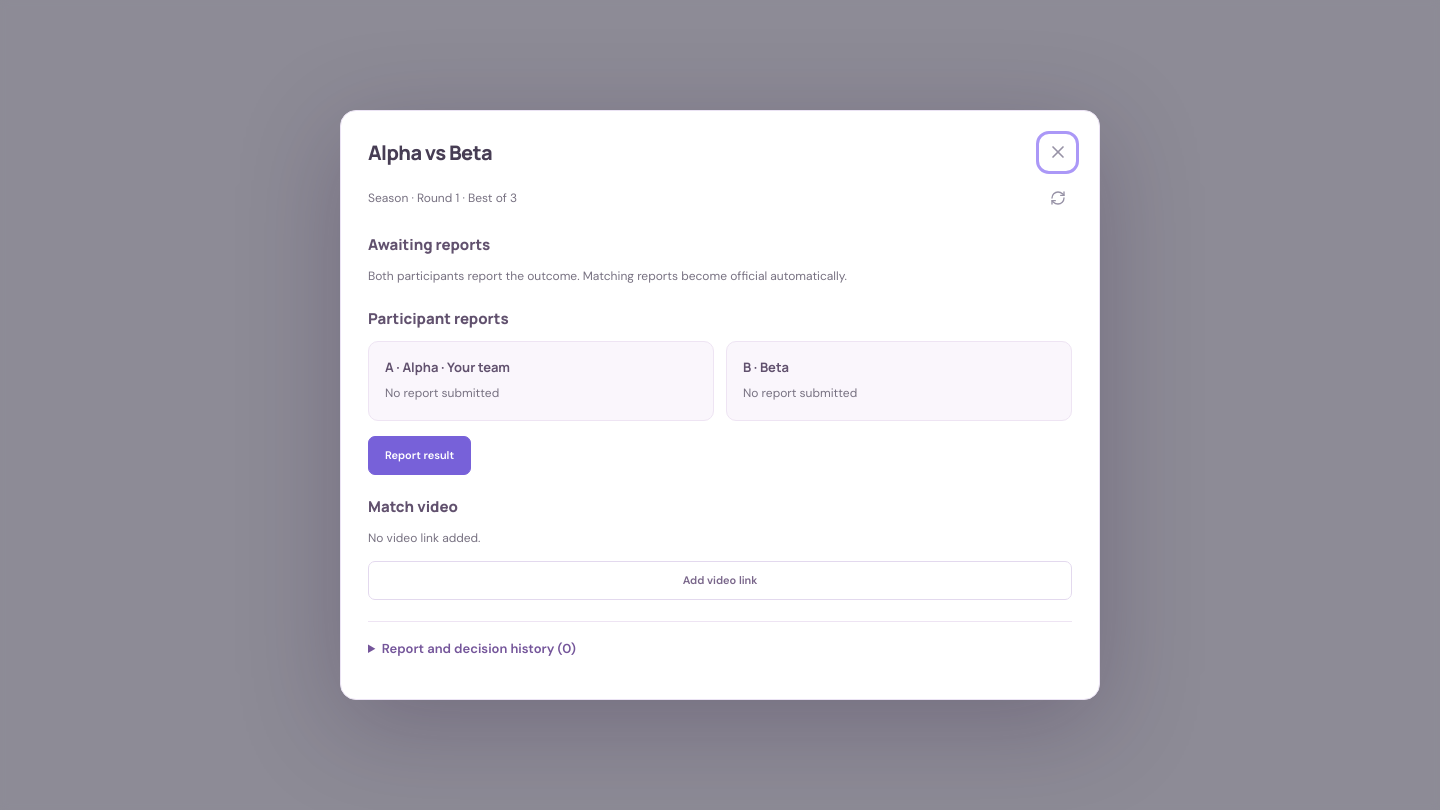
TournamentMatch › rejects incomplete and tied played scores before sending a report
Click the button "Report result".
click(420, 455)  # box [368,436,471,475]
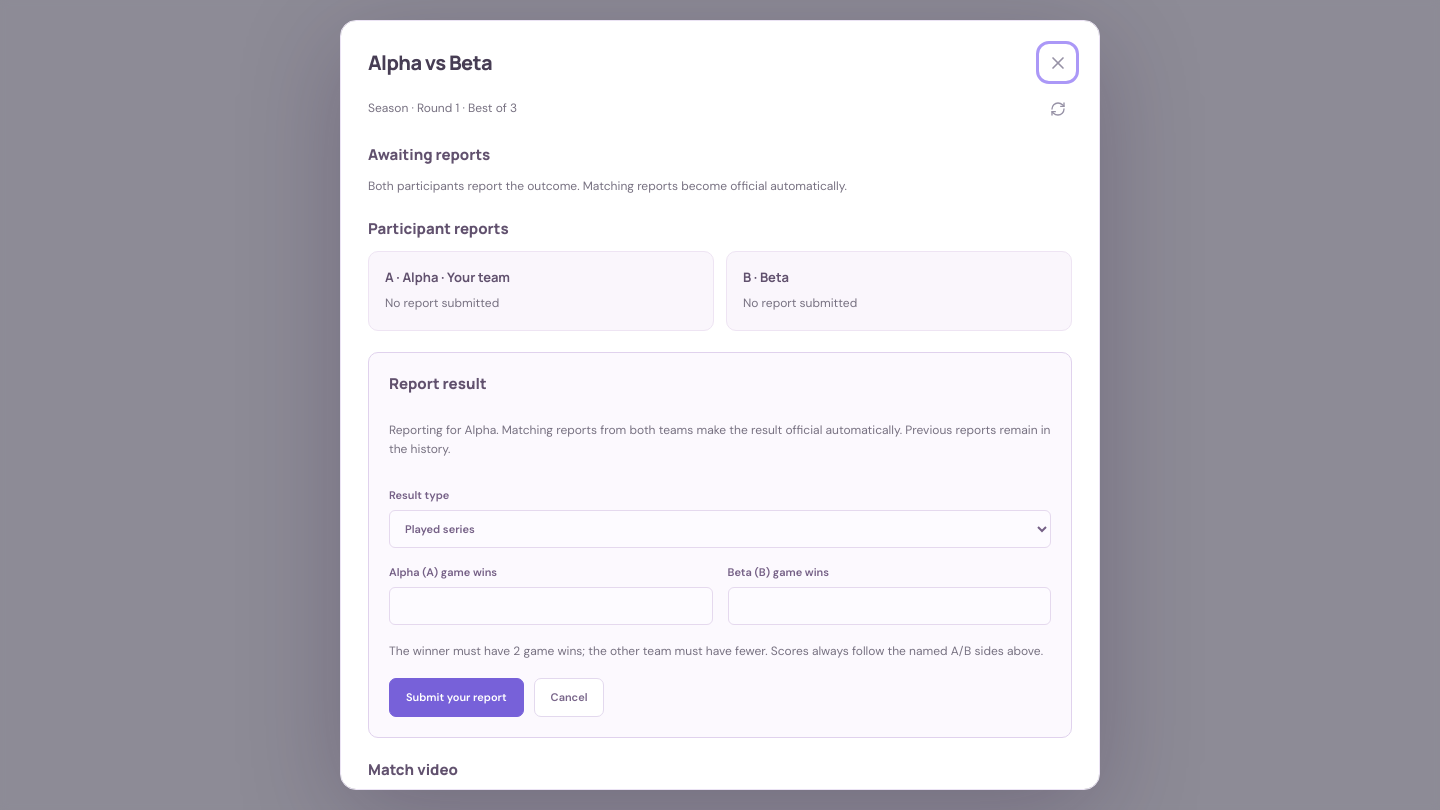
Type "1" into the number field labelled "Alpha (A) game wins".
click(551, 606); type("1")  # box [389,587,712,625]
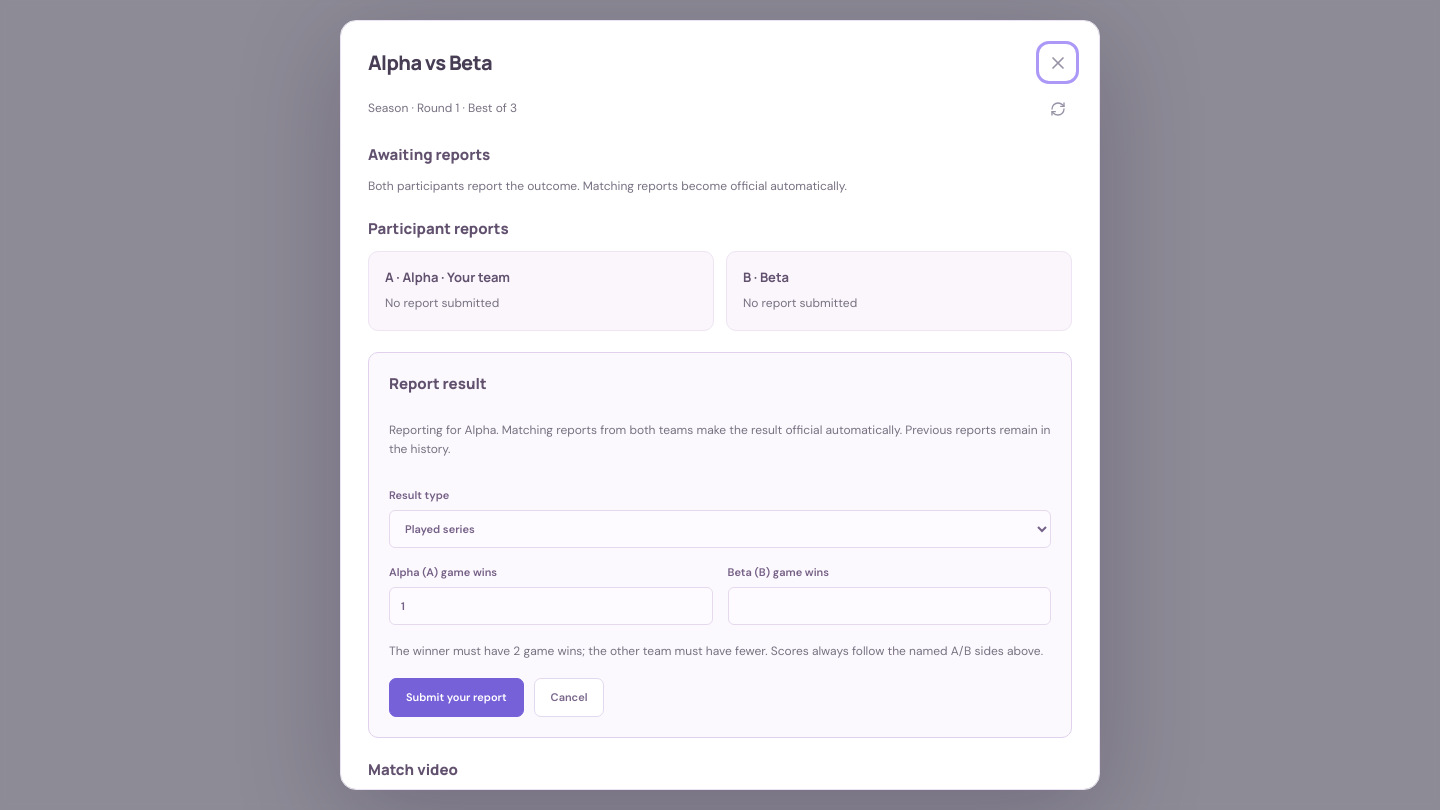
Type "1" into the number field labelled "Beta (B) game wins".
click(889, 606); type("1")  # box [728,587,1051,625]
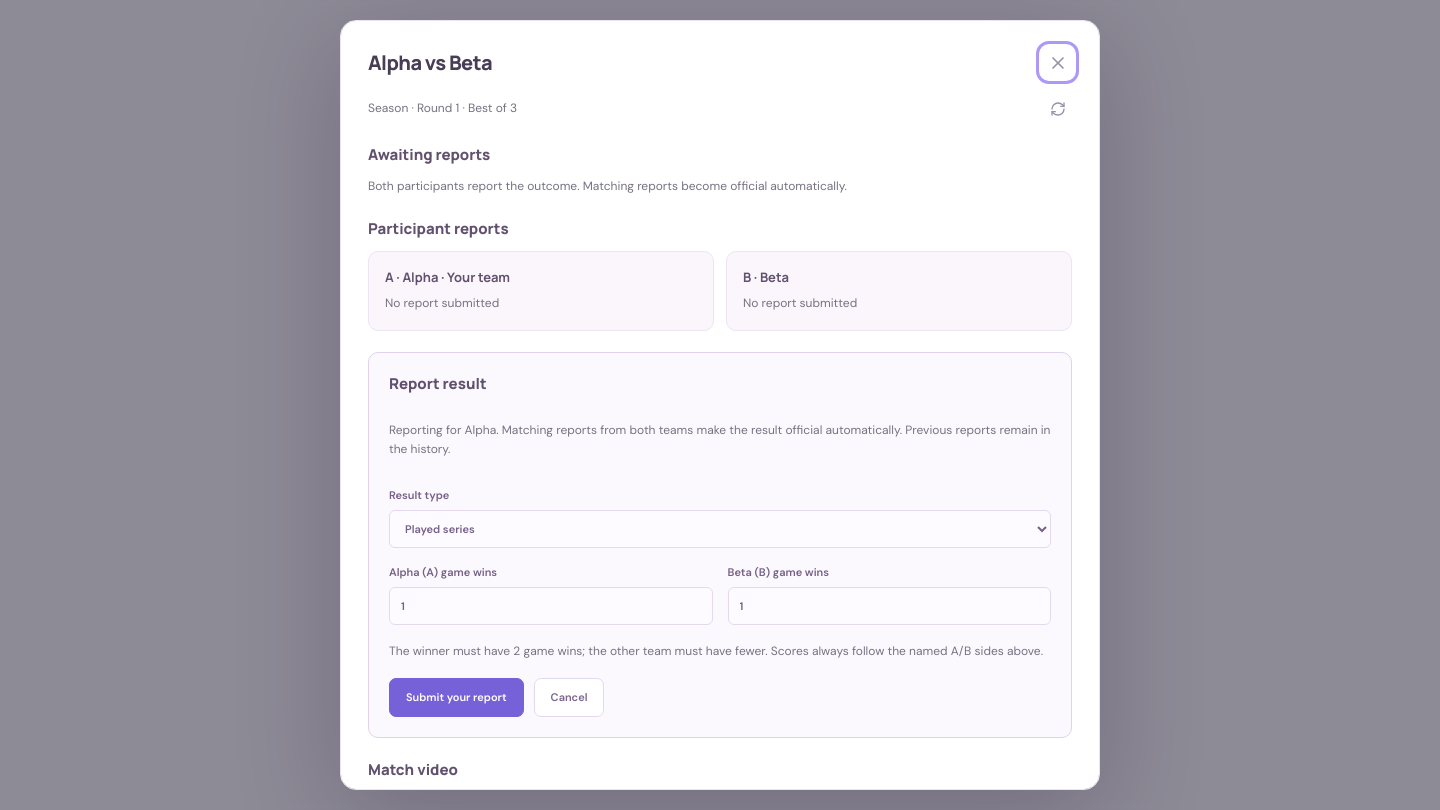
Submit the form, box [368,352,1072,738]
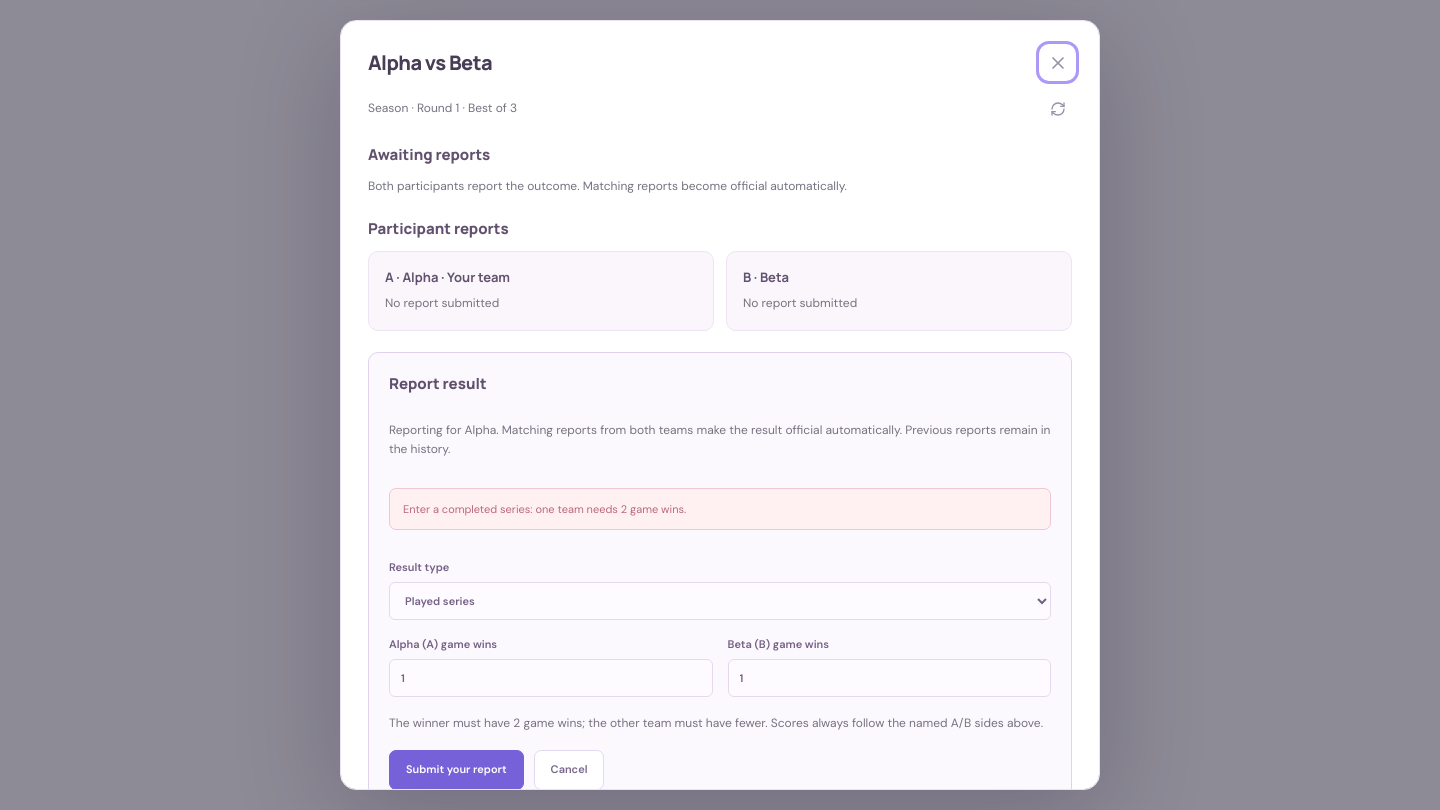
Expected: the text "Enter a completed series" is shown, [403,502,686,516]
